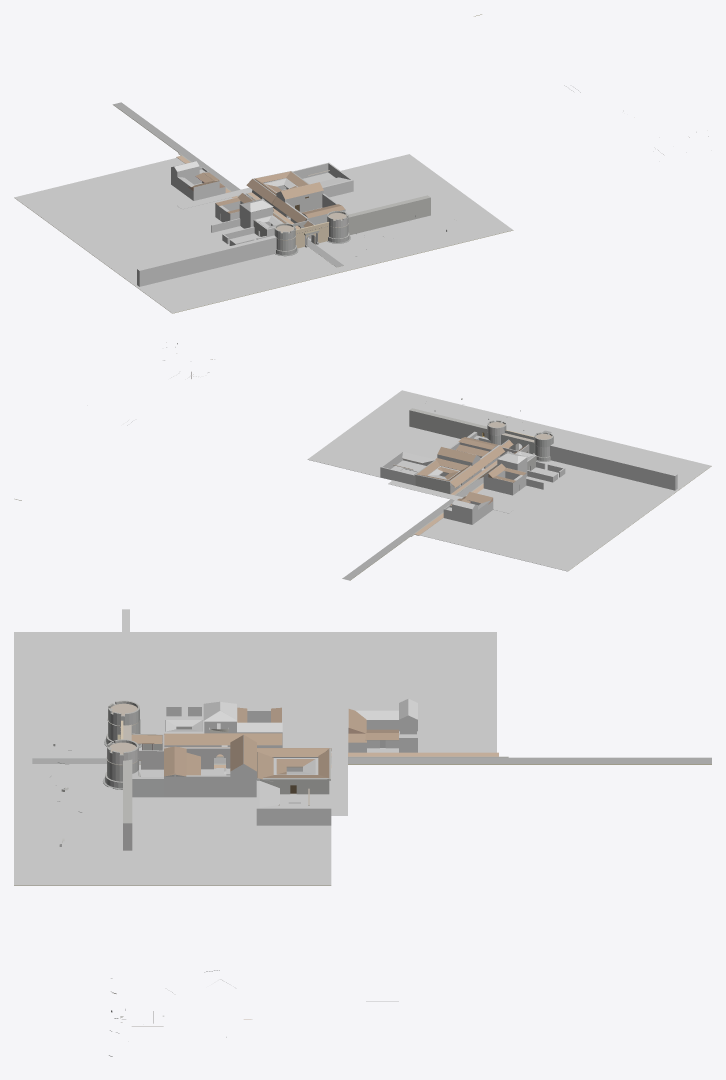
File: ciudadFortificada.glb
3 renders of one model, top to bottom at view 1: azimuth 30°, elevation 25°; view 2: azimuth 150°, elevation 25°; view 3: azimuth 270°, elevation 25°, orthographic. The views are drawn at different scales.
Visible parts, largest first — view 1: node_a850f24d_8dc6_45bd_87d4_30a8140b381a_mesh0, node_b7735fbe_4fdf_4d9b_a478_9b6b9a6628aa_mesh0, node_895951bd_86f9_4584_81e5_7f86f657a6aa_mesh0, node_07141b32_26c3_439b_84fc_08ba7734f477_mesh0, node_442751b7_0d08_4b6f_9881_0639919ad09e_mesh0; view 2: node_a850f24d_8dc6_45bd_87d4_30a8140b381a_mesh0, node_3c3b1e88_18d3_4273_a58d_0a4774a63a86_mesh0, node_6471d816_b74a_4e61_ab82_49f5d6236b0d_mesh0, node_07141b32_26c3_439b_84fc_08ba7734f477_mesh0, node_3ac2cc53_f1a7_423a_b5fb_87248faf758b_mesh0, node_c278a3b0_23b6_4c82_abbd_6a58a70ff700_mesh0, node_11766270_57ab_40a8_9d74_7499c30766f6_mesh0, node_738e17e4_2aba_4df4_93a5_2145e69cf94f_mesh0; view 3: node_a850f24d_8dc6_45bd_87d4_30a8140b381a_mesh0, node_07141b32_26c3_439b_84fc_08ba7734f477_mesh0, node_b66cb1c0_db7b_423b_871e_4acffcf59bdb_mesh0, node_3ac2cc53_f1a7_423a_b5fb_87248faf758b_mesh0, node_13449d76_3def_44af_a0d5_0575b518fa67_mesh0, node_0a50dd12_f31c_4b31_a543_1c71fa9c154b_mesh0, node_642d46bf_d20e_455a_865b_1c897f465291_mesh0, node_388e2f90_a568_42da_a876_008a597b33d7_mesh0, node_cbb13659_44ed_4355_9878_a34d0fbfe837_mesh0.
Part boxes in pixels (x1,y1,x2,y2): node_a850f24d_8dc6_45bd_87d4_30a8140b381a_mesh0: (14, 154, 512, 313); node_b7735fbe_4fdf_4d9b_a478_9b6b9a6628aa_mesh0: (139, 237, 276, 286); node_895951bd_86f9_4584_81e5_7f86f657a6aa_mesh0: (348, 197, 430, 235); node_07141b32_26c3_439b_84fc_08ba7734f477_mesh0: (113, 102, 343, 267); node_442751b7_0d08_4b6f_9881_0639919ad09e_mesh0: (286, 191, 322, 212); node_a850f24d_8dc6_45bd_87d4_30a8140b381a_mesh0: (307, 390, 711, 571); node_3c3b1e88_18d3_4273_a58d_0a4774a63a86_mesh0: (550, 445, 675, 490); node_6471d816_b74a_4e61_ab82_49f5d6236b0d_mesh0: (409, 410, 487, 438); node_07141b32_26c3_439b_84fc_08ba7734f477_mesh0: (342, 430, 551, 580); node_3ac2cc53_f1a7_423a_b5fb_87248faf758b_mesh0: (388, 480, 513, 513); node_c278a3b0_23b6_4c82_abbd_6a58a70ff700_mesh0: (414, 475, 450, 493); node_11766270_57ab_40a8_9d74_7499c30766f6_mesh0: (443, 504, 472, 524); node_738e17e4_2aba_4df4_93a5_2145e69cf94f_mesh0: (483, 476, 512, 495); node_a850f24d_8dc6_45bd_87d4_30a8140b381a_mesh0: (14, 632, 496, 885); node_07141b32_26c3_439b_84fc_08ba7734f477_mesh0: (32, 757, 711, 763); node_b66cb1c0_db7b_423b_871e_4acffcf59bdb_mesh0: (164, 764, 256, 797); node_3ac2cc53_f1a7_423a_b5fb_87248faf758b_mesh0: (331, 716, 347, 815); node_13449d76_3def_44af_a0d5_0575b518fa67_mesh0: (256, 808, 331, 825); node_0a50dd12_f31c_4b31_a543_1c71fa9c154b_mesh0: (164, 733, 282, 745); node_642d46bf_d20e_455a_865b_1c897f465291_mesh0: (257, 779, 330, 794); node_388e2f90_a568_42da_a876_008a597b33d7_mesh0: (348, 752, 498, 756); node_cbb13659_44ed_4355_9878_a34d0fbfe837_mesh0: (122, 609, 129, 700).
Bounding box in the file's own units: 5.54 × 0.2515 × 3.77.
